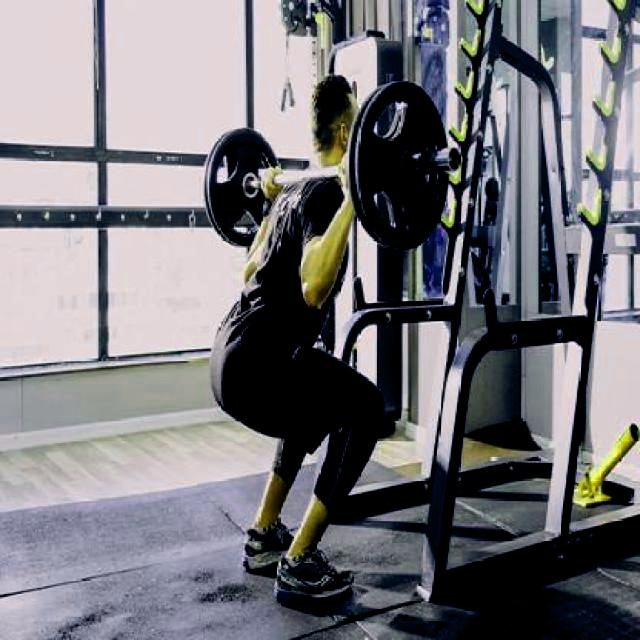barbell: (355, 79, 462, 255)
